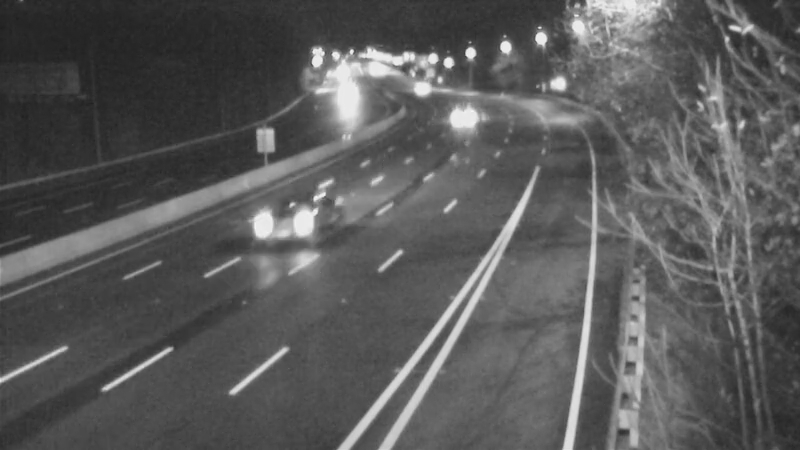vehicle: (253, 180, 333, 260), (390, 57, 440, 107), (436, 95, 486, 145), (319, 74, 369, 124)
